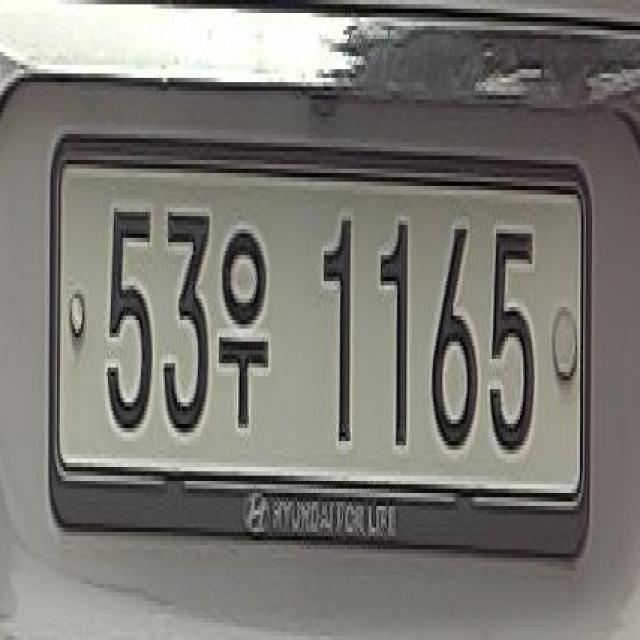1: (372, 190, 419, 463), (319, 190, 364, 467)
3: (158, 182, 215, 446)
5: (106, 190, 156, 446), (492, 199, 538, 463)
6: (420, 190, 486, 480)
license_plate: (51, 125, 595, 558)
u: (216, 208, 286, 437)
